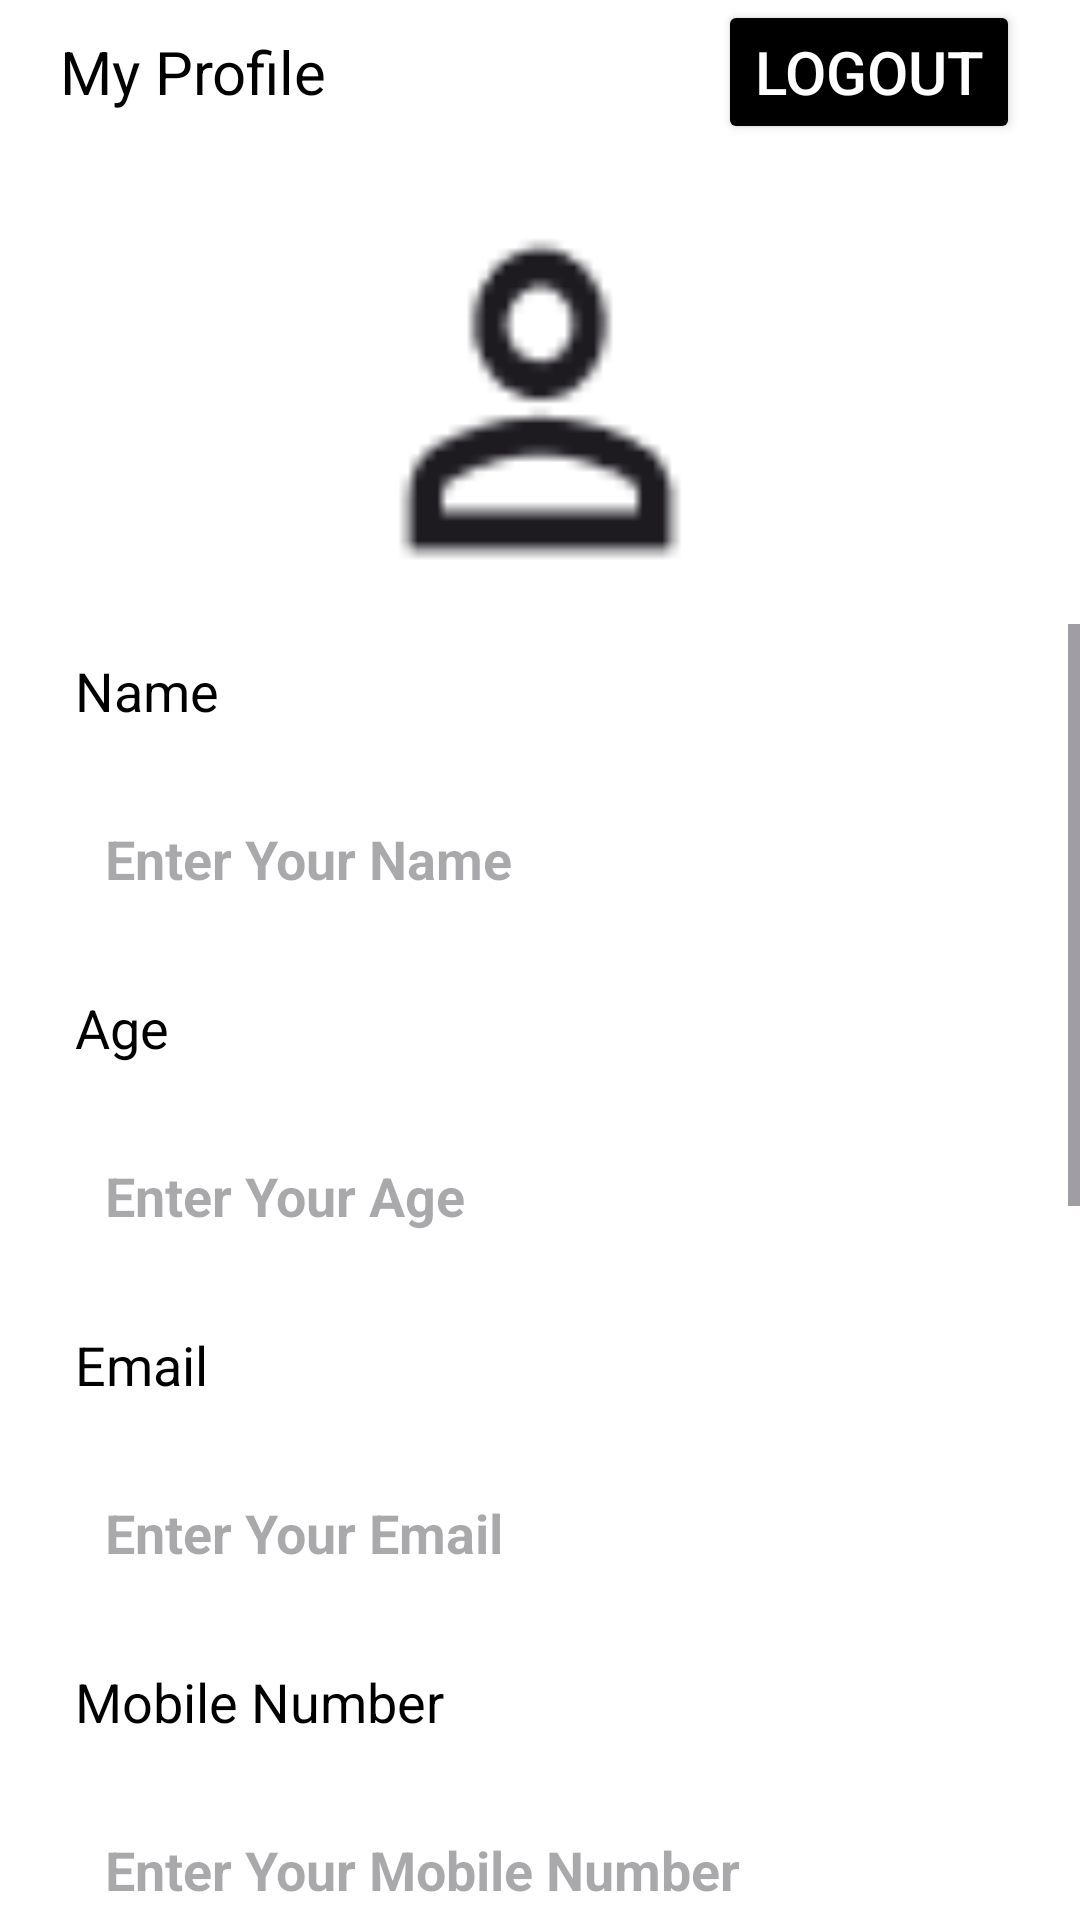

Screen size 1080x1920. Icon name, then its center in pixels as [x,y]:
person: [540,399]
